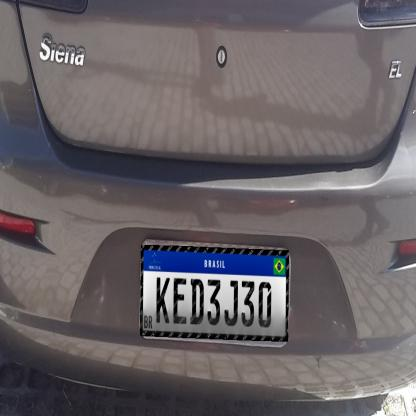PlacaM: (140, 245, 289, 342)
